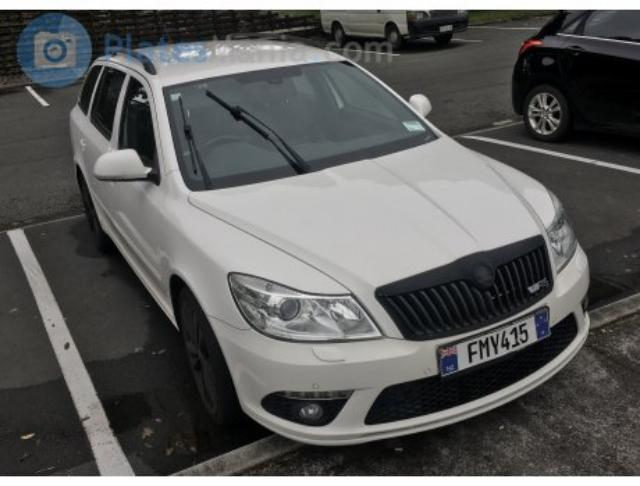Rego: (439, 309, 549, 377)
